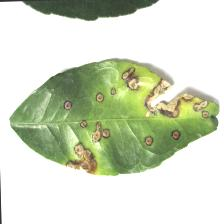canker: (37, 59, 224, 181)
